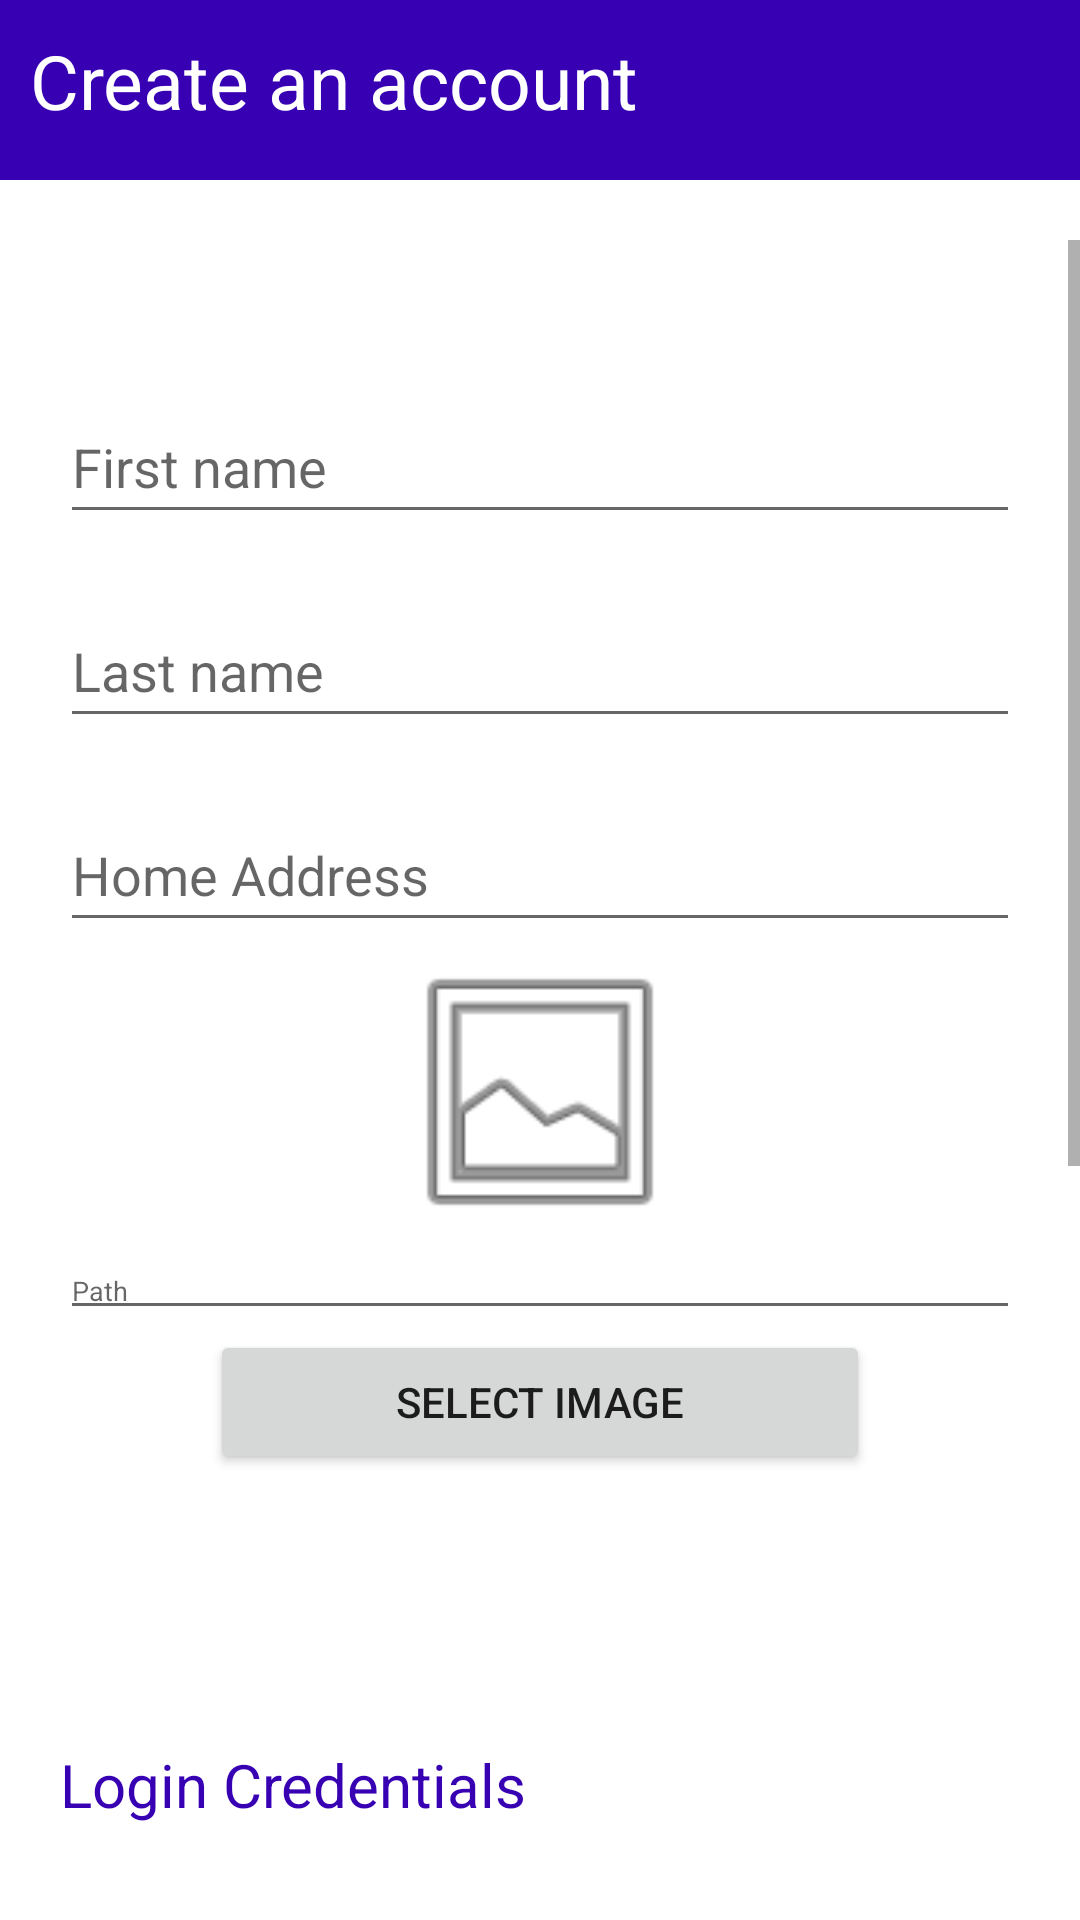

Icon click points for this 1080px x 1920px phone screenshot, format (x=x, y=y):
gallery: (x=540, y=1092)
